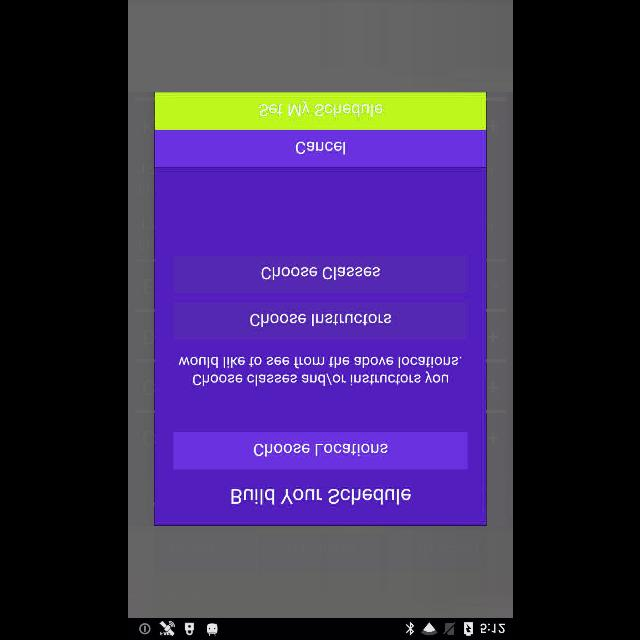panel: (154, 93, 486, 525)
text: (179, 356, 461, 386), (232, 489, 410, 505)
textbutton: (154, 92, 486, 130), (154, 130, 486, 168), (173, 302, 467, 340), (173, 431, 467, 469), (172, 255, 466, 292)
uppertaskbar: (128, 617, 512, 639)
